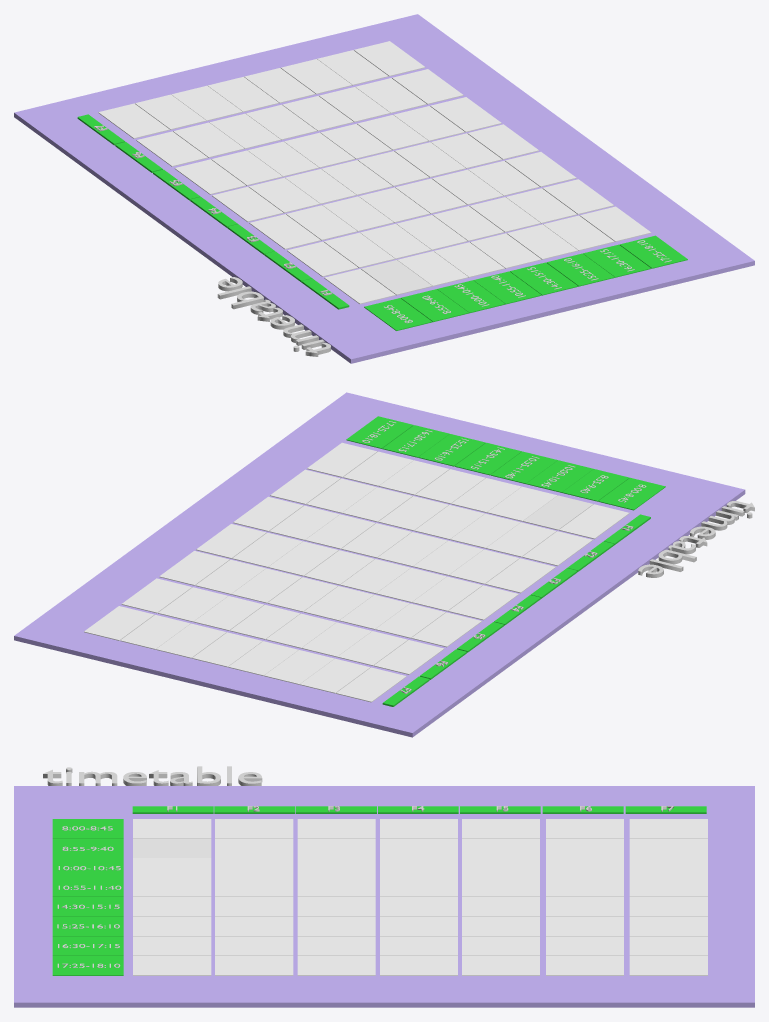
File: timetable.gltf
The picture shows the model from 3 angles, top to bottom: view 1: azimuth 30°, elevation 25°; view 2: azimuth 150°, elevation 25°; view 3: azimuth 270°, elevation 25°; orthographic projection. The views are drawn at different scales.
Visible parts, largest first — view 1: Cube, 文本, 课程51, 课程78, 课程38, 课程31, 课程21, 课程68, 课程58, 课程48, 课程28, 课程71 (+54 smaller); view 2: Cube, 文本, 课程11, 课程31, 课程21, 课程48, 课程71, 课程41, 课程78, 课程68, 课程58, 课程38 (+54 smaller); view 3: Cube, 文本, 课程76, 课程36, 课程26, 课程16, 课程66, 课程56, 课程46, 课程35, 课程25, 课程11 (+61 smaller).
Part boxes in pixels (bbox=[...]): Cube: bbox=[14, 14, 754, 363]; 文本: bbox=[217, 277, 330, 356]; 课程51: bbox=[174, 159, 246, 194]; 课程78: bbox=[354, 41, 425, 76]; 课程38: bbox=[505, 152, 576, 187]; 课程31: bbox=[249, 214, 320, 249]; 课程21: bbox=[287, 241, 358, 276]; 课程68: bbox=[392, 69, 463, 104]; 课程58: bbox=[430, 97, 501, 132]; 课程48: bbox=[467, 124, 538, 159]; 课程28: bbox=[542, 179, 613, 214]; 课程71: bbox=[98, 103, 169, 138]; Cube: bbox=[14, 392, 745, 737]; 文本: bbox=[638, 501, 754, 577]; 课程11: bbox=[559, 504, 629, 539]; 课程31: bbox=[485, 558, 555, 593]; 课程21: bbox=[522, 531, 592, 566]; 课程48: bbox=[196, 524, 266, 558]; 课程71: bbox=[336, 667, 406, 702]; 课程41: bbox=[448, 585, 518, 620]; 课程78: bbox=[84, 606, 154, 640]; 课程68: bbox=[121, 578, 192, 613]; 课程58: bbox=[159, 551, 229, 585]; 课程38: bbox=[233, 496, 303, 531]; Cube: bbox=[14, 786, 754, 1007]; 文本: bbox=[43, 766, 262, 785]; 课程76: bbox=[629, 916, 707, 936]; 课程36: bbox=[297, 916, 375, 936]; 课程26: bbox=[215, 916, 293, 936]; 课程16: bbox=[133, 916, 211, 936]; 课程66: bbox=[546, 916, 623, 936]; 课程56: bbox=[462, 916, 539, 936]; 课程46: bbox=[380, 916, 457, 936]; 课程35: bbox=[297, 897, 375, 916]; 课程25: bbox=[215, 897, 293, 916]; 课程11: bbox=[133, 819, 211, 838].
Size of the model in its own units: 12.88 by 0.2069 by 17.16.
